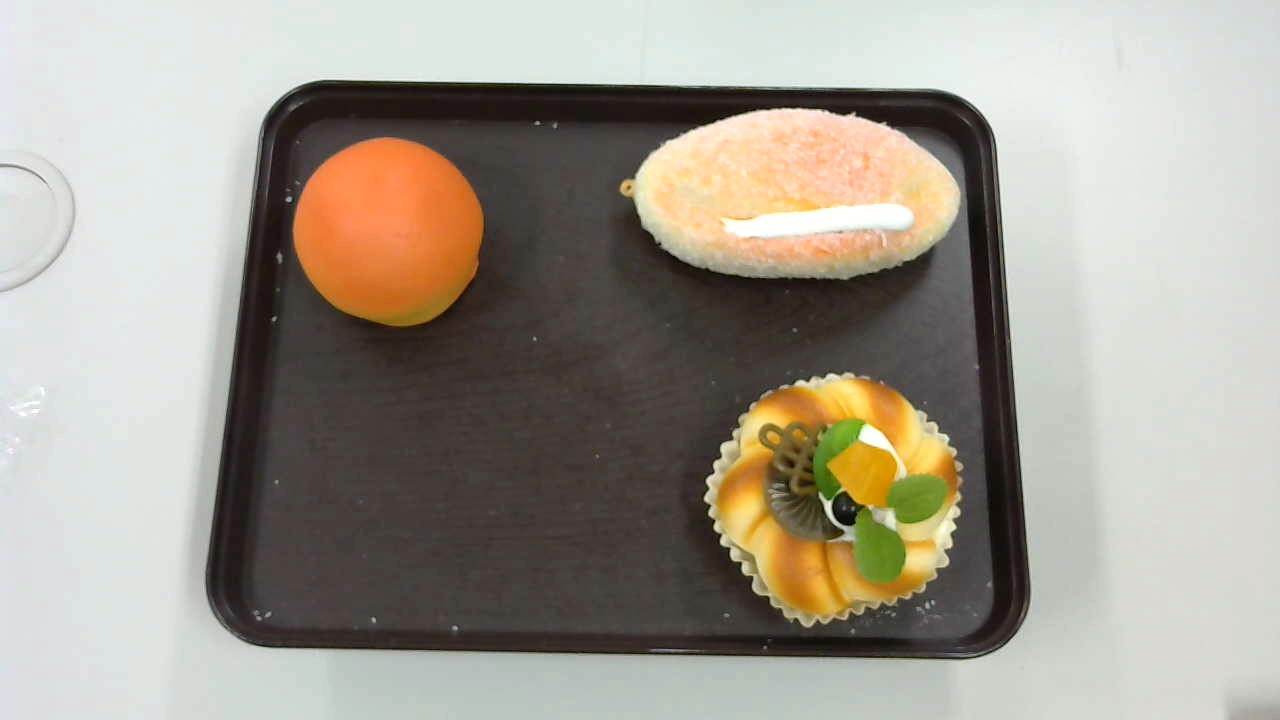bun: (293, 137, 484, 327)
coconut: (618, 108, 961, 280)
fruit tart: (705, 370, 963, 629)
